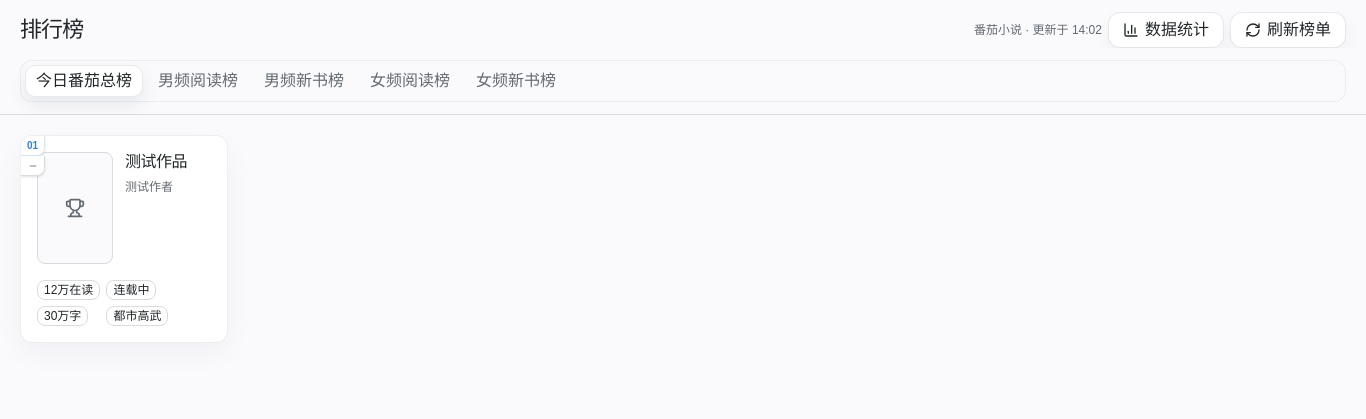
LeaderboardPage › 切换分类后读取本地分类缓存，不重新请求云端
Expected: the heading "测试作品" is shown, x1=125 y1=152 x2=187 y2=171
Click the button "男频阅读榜" at [198, 81], box x1=147 y1=65 x2=249 y2=97
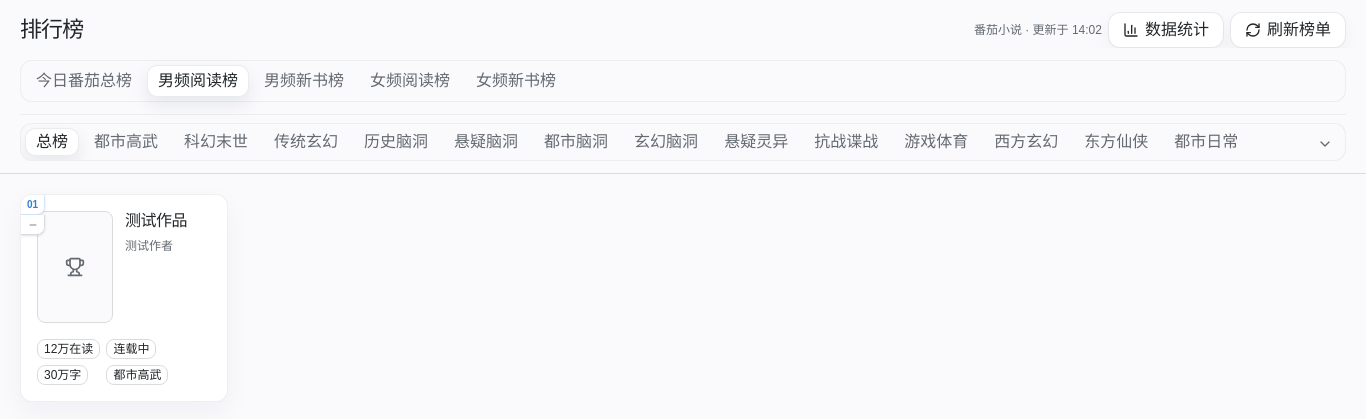
Now the button "都市高武" is shown
Click the button "都市高武" at [126, 142], box x1=83 y1=128 x2=169 y2=156
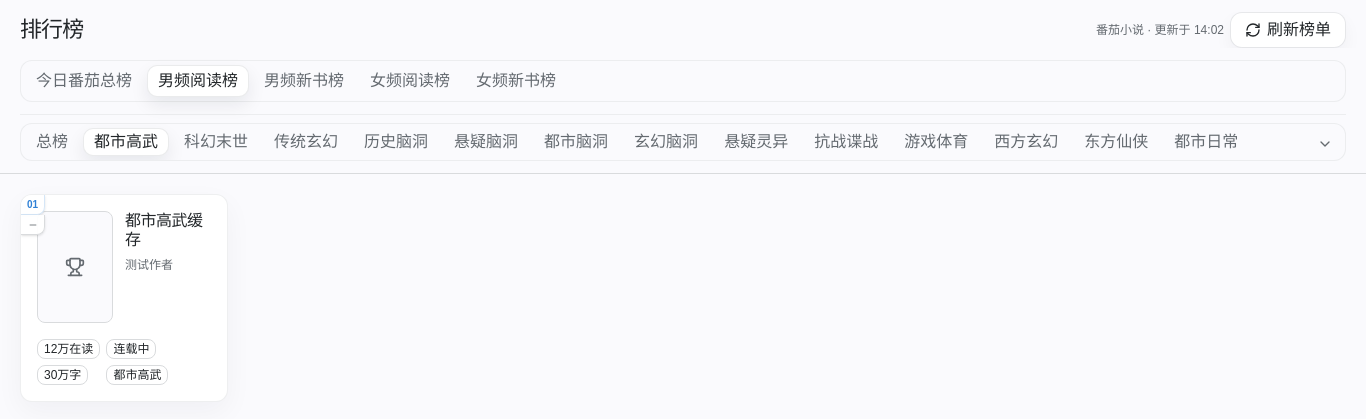
Now the heading "都市高武缓存" is shown, box x1=125 y1=211 x2=211 y2=249
